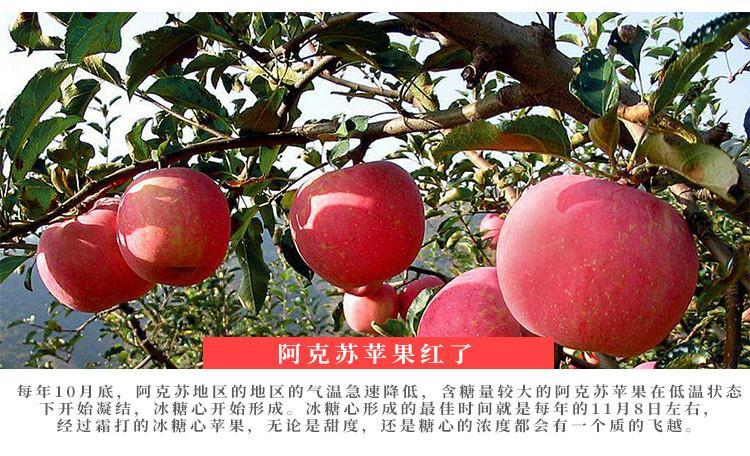apple: (496, 172, 699, 357), (287, 161, 426, 290), (114, 165, 230, 286), (34, 198, 156, 313), (416, 265, 533, 336), (339, 284, 397, 334)
